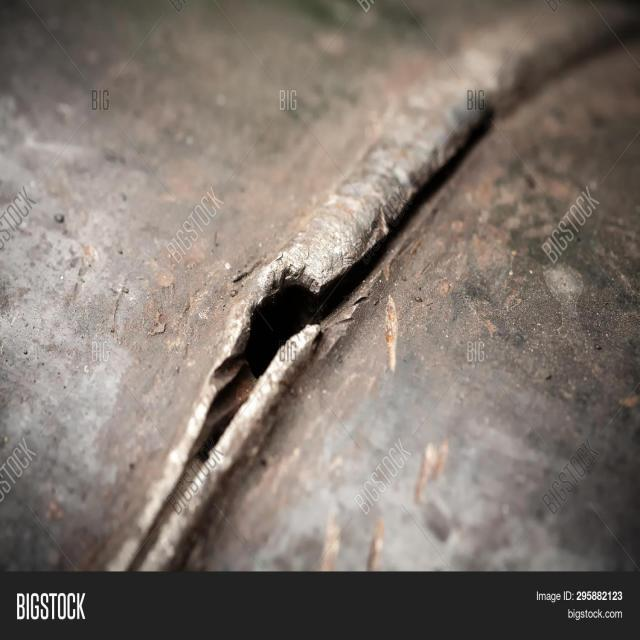crack: (144, 98, 487, 557), (334, 95, 486, 337)
hole: (208, 271, 331, 438)
